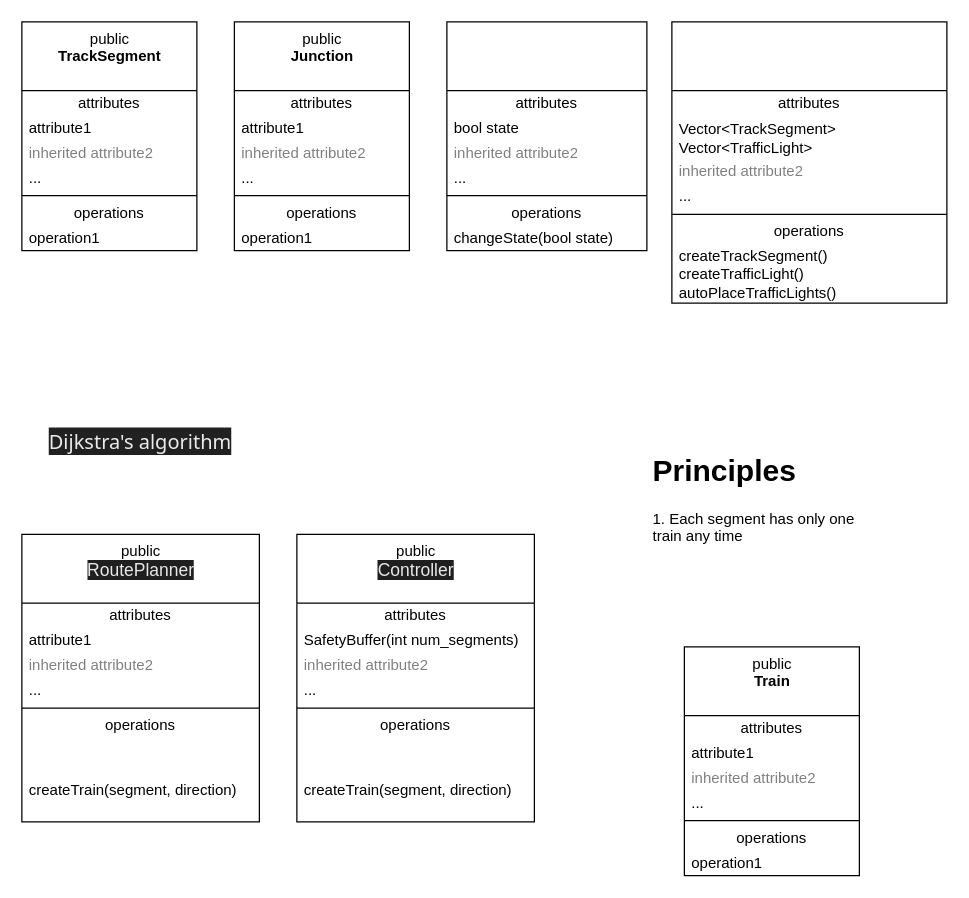
The diagram is 969 pixels wide and 898 high, and some of its shapes have lost their labels. Each missing label, with the box of its shape:
public TrackMap: (671, 21, 947, 303)
public TrafficLight: (446, 21, 647, 251)
